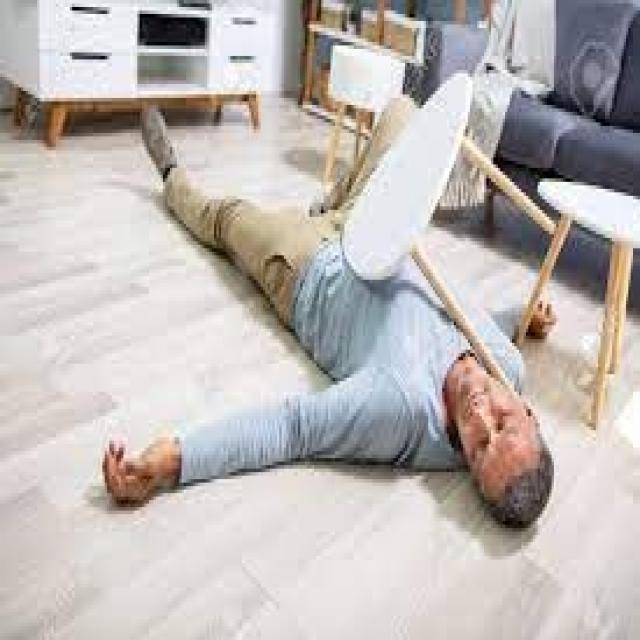fall: (111, 89, 559, 532)
